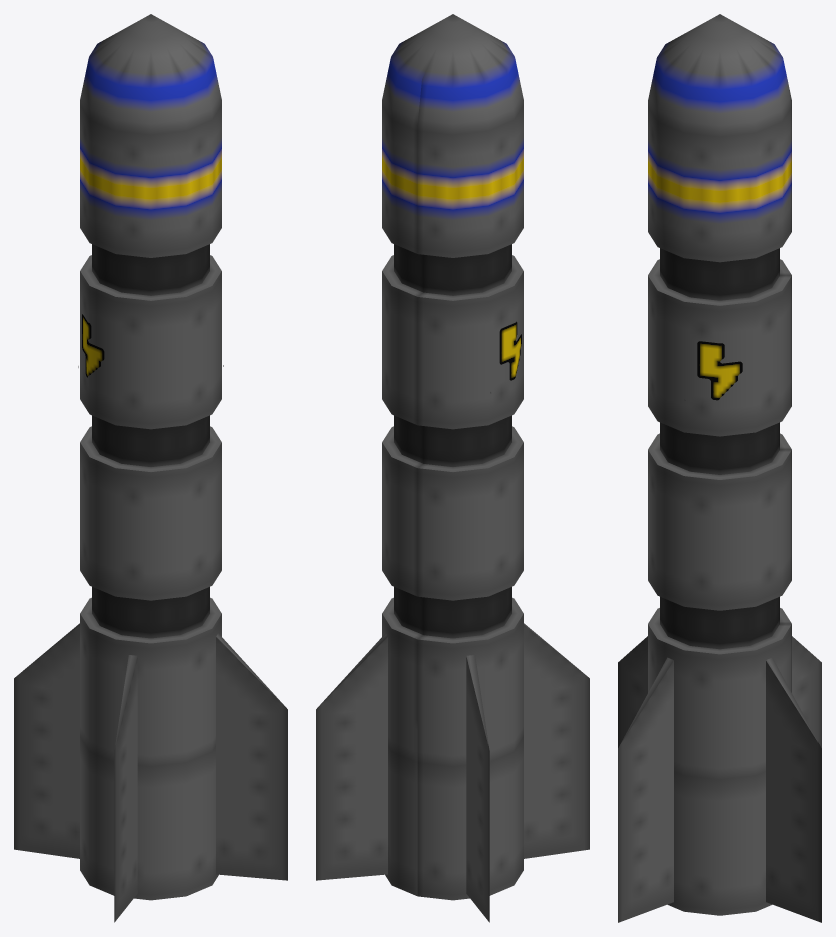
Rendered from missile_emp.obj.
3 renders of one model, left to right at view 1: azimuth 30°, elevation 25°; view 2: azimuth 150°, elevation 25°; view 3: azimuth 270°, elevation 25°, orthographic.
Visible parts, largest first — view 1: missile_emp; view 2: missile_emp; view 3: missile_emp.
Part boxes in pixels (x1,y1,x2,y2): missile_emp: (14,14,287,922); missile_emp: (316,14,589,922); missile_emp: (618,14,821,922).
Size of the model in its own units: 1.06 by 5 by 1.06.
